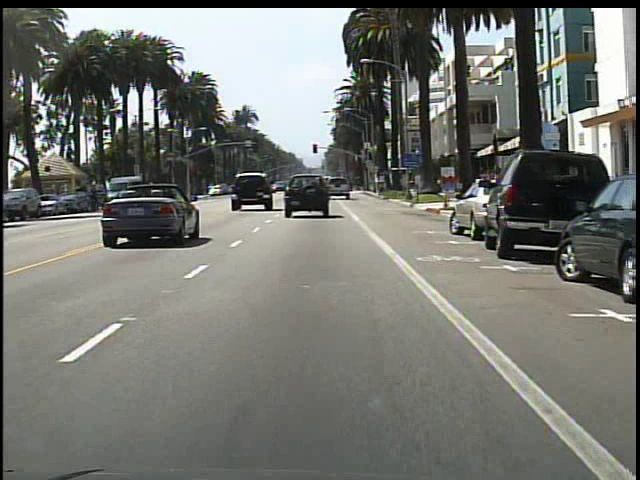person: (89, 179, 103, 212)
